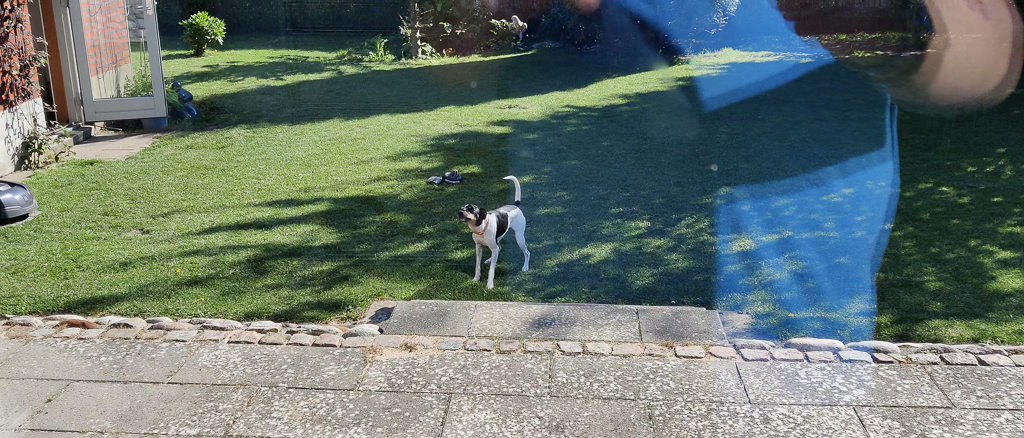Dog: (451, 172, 540, 292)
Eagle: (505, 12, 530, 44)
Humanoid: (160, 78, 203, 127)
